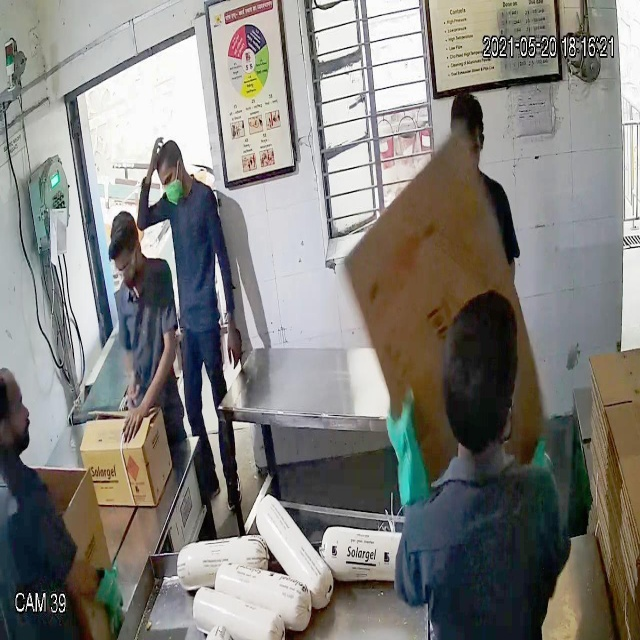Gafas: (106, 248, 142, 282)
